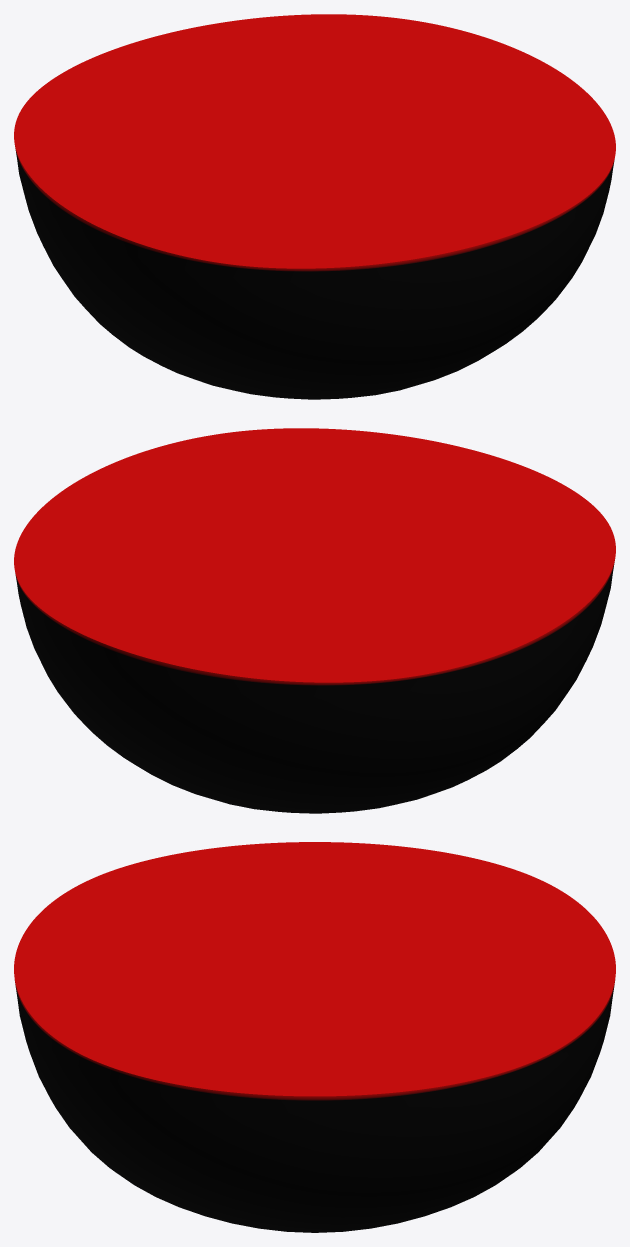
The model's file is Fbx_IslandWater.FBX.
3 views of the same model, one above another, from view 1: azimuth 30°, elevation 25°; view 2: azimuth 150°, elevation 25°; view 3: azimuth 270°, elevation 25° (orthographic).
Visible parts, largest first — view 1: WaterDomeDoubleTurboTessMore; view 2: WaterDomeDoubleTurboTessMore; view 3: WaterDomeDoubleTurboTessMore.
Boxes of the visible parts, box(x1,y1,x2,y2) form: WaterDomeDoubleTurboTessMore: box(14, 14, 615, 399); WaterDomeDoubleTurboTessMore: box(14, 428, 615, 813); WaterDomeDoubleTurboTessMore: box(14, 842, 615, 1232).
Size of the model in its own units: 840 by 345 by 840.
